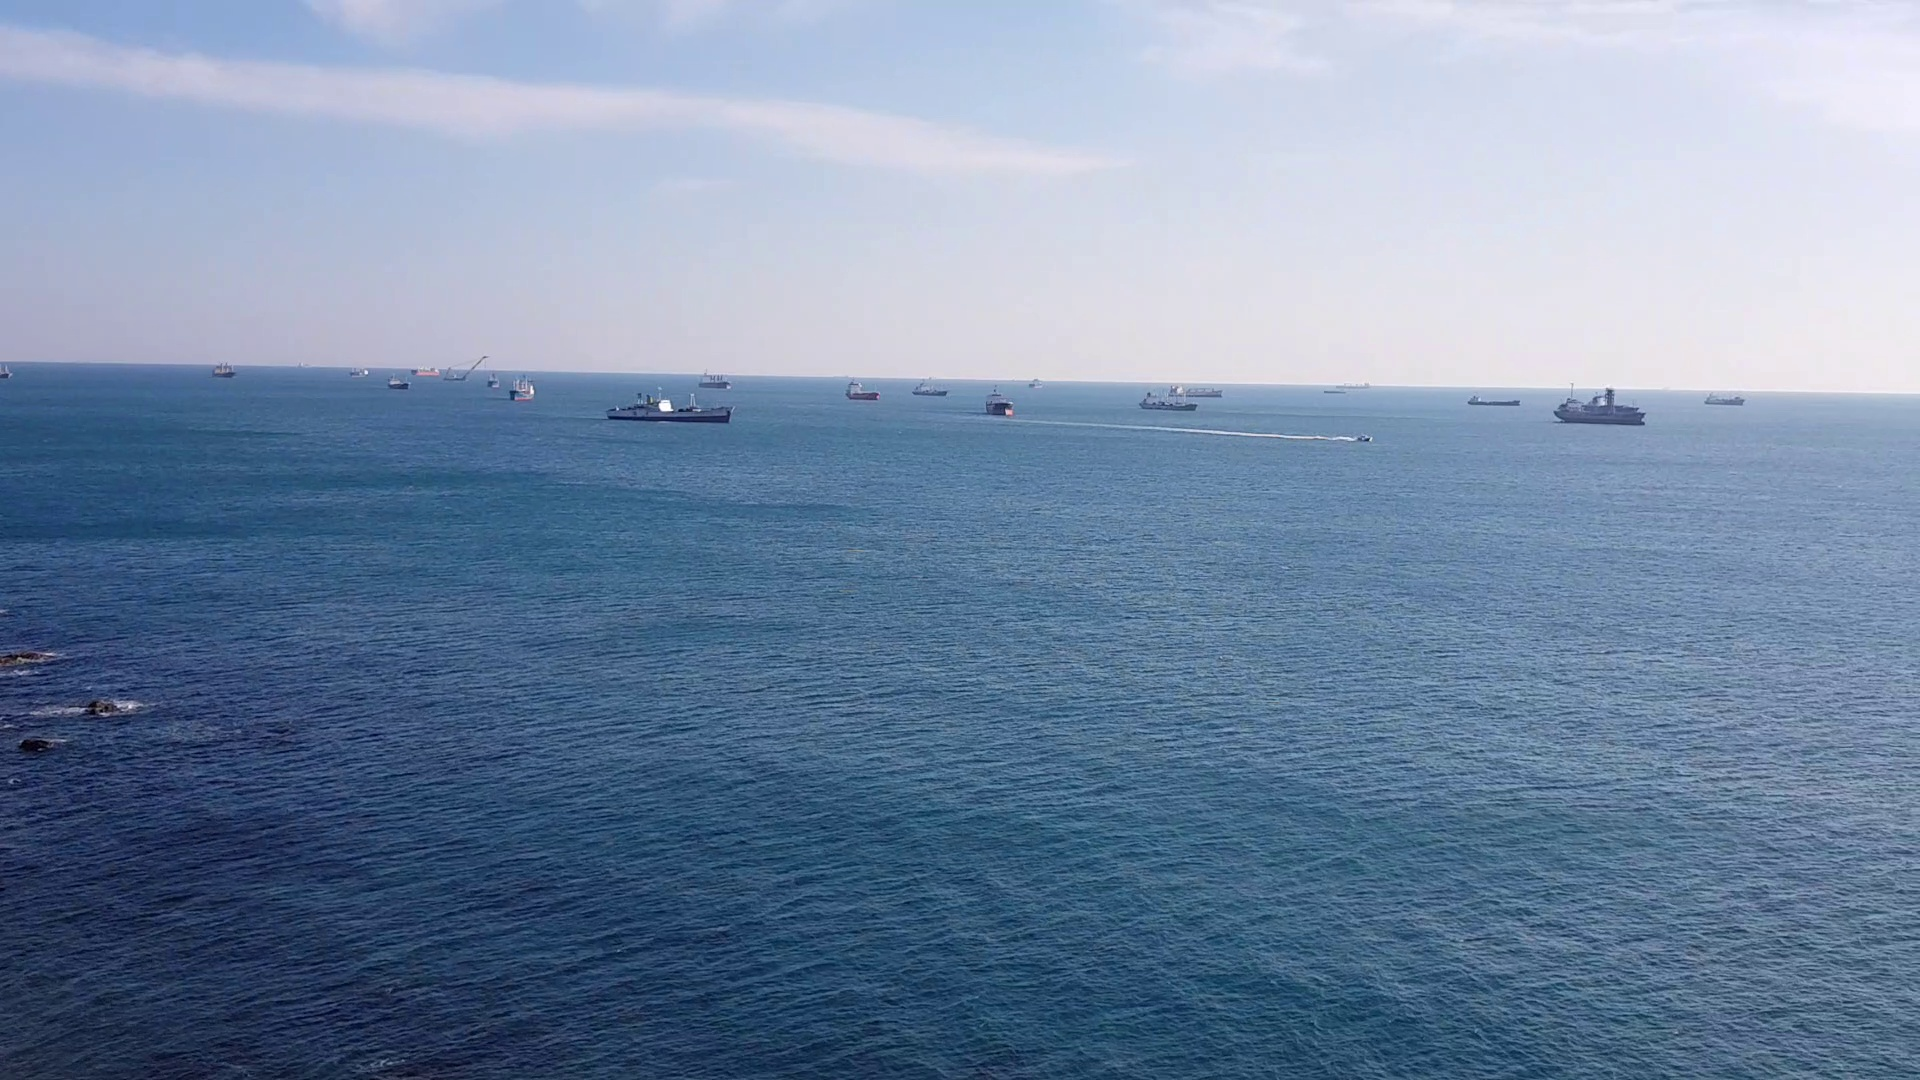Bulk_Carrier: (597, 394, 733, 423), (1548, 397, 1644, 421), (1127, 393, 1218, 411)
